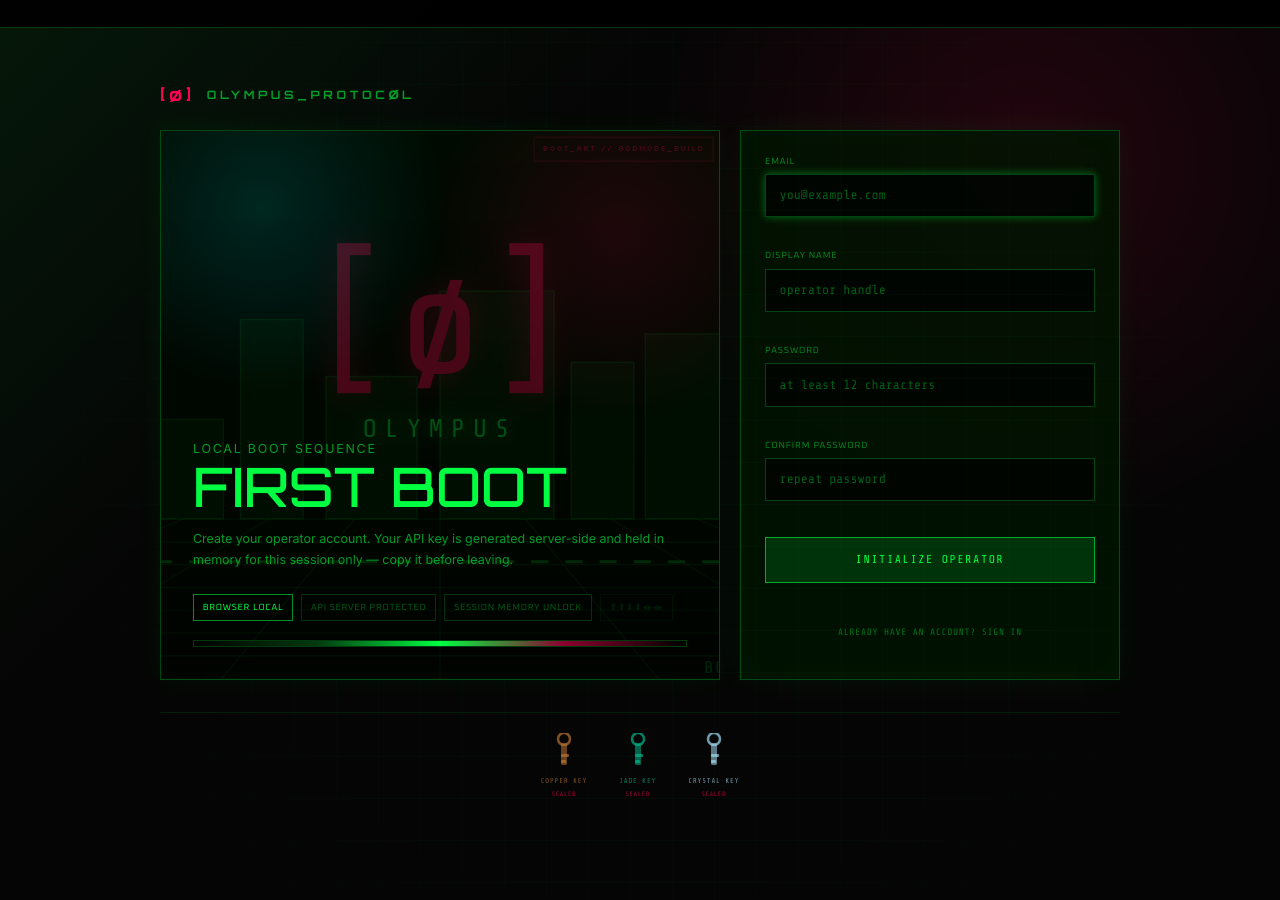
Test: <StartupGate> › setup form rejects mismatched passwords
Expected: the heading "FIRST BOOT" is shown, [193,452,567,520]
Type "user@example.com" into the field with placeholder "you@example.com" at point(930, 196), box [765,174,1095,217]
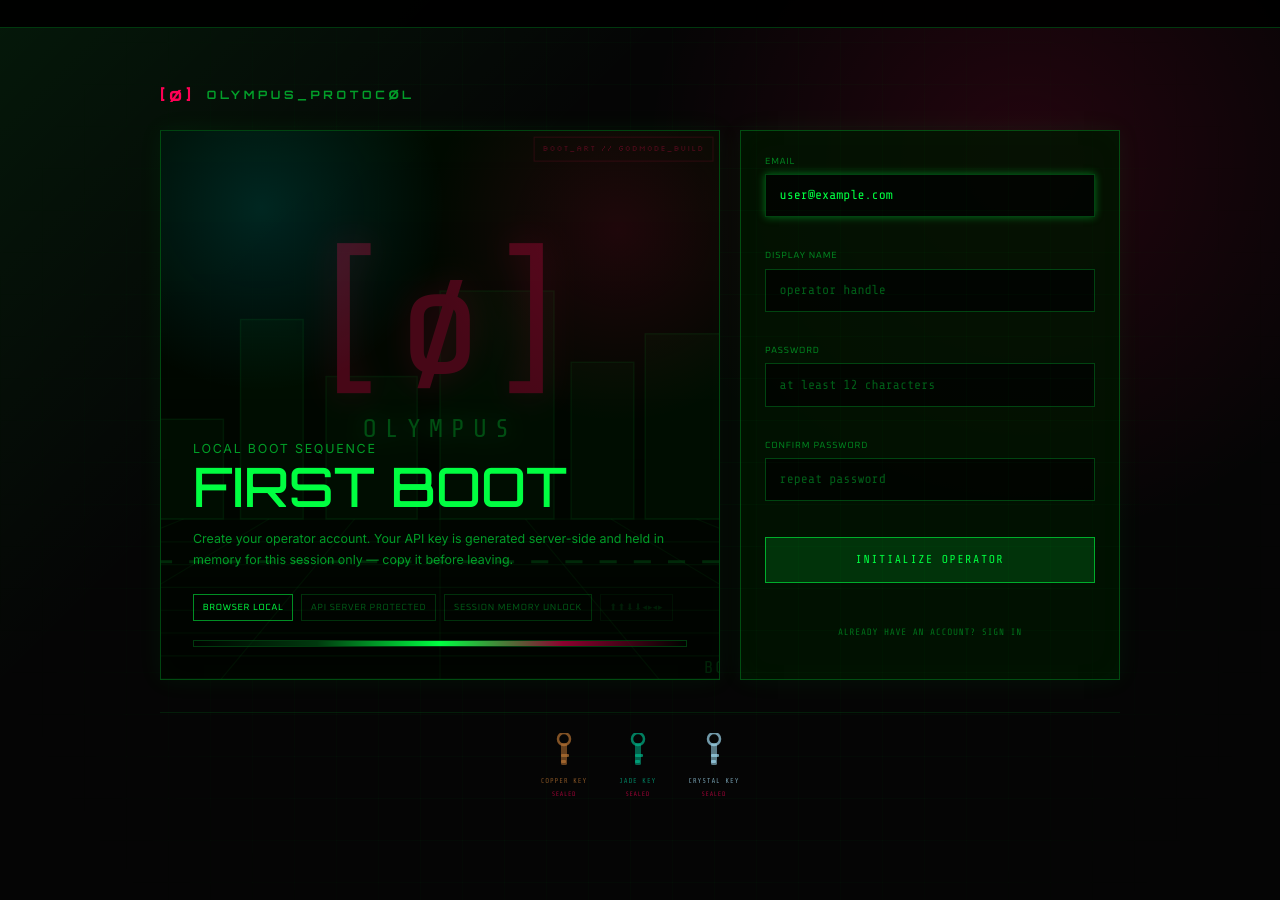
Type "longenoughpw1234" into the password field with placeholder "at least 12 characters" at point(930, 385), box [765,363,1095,406]
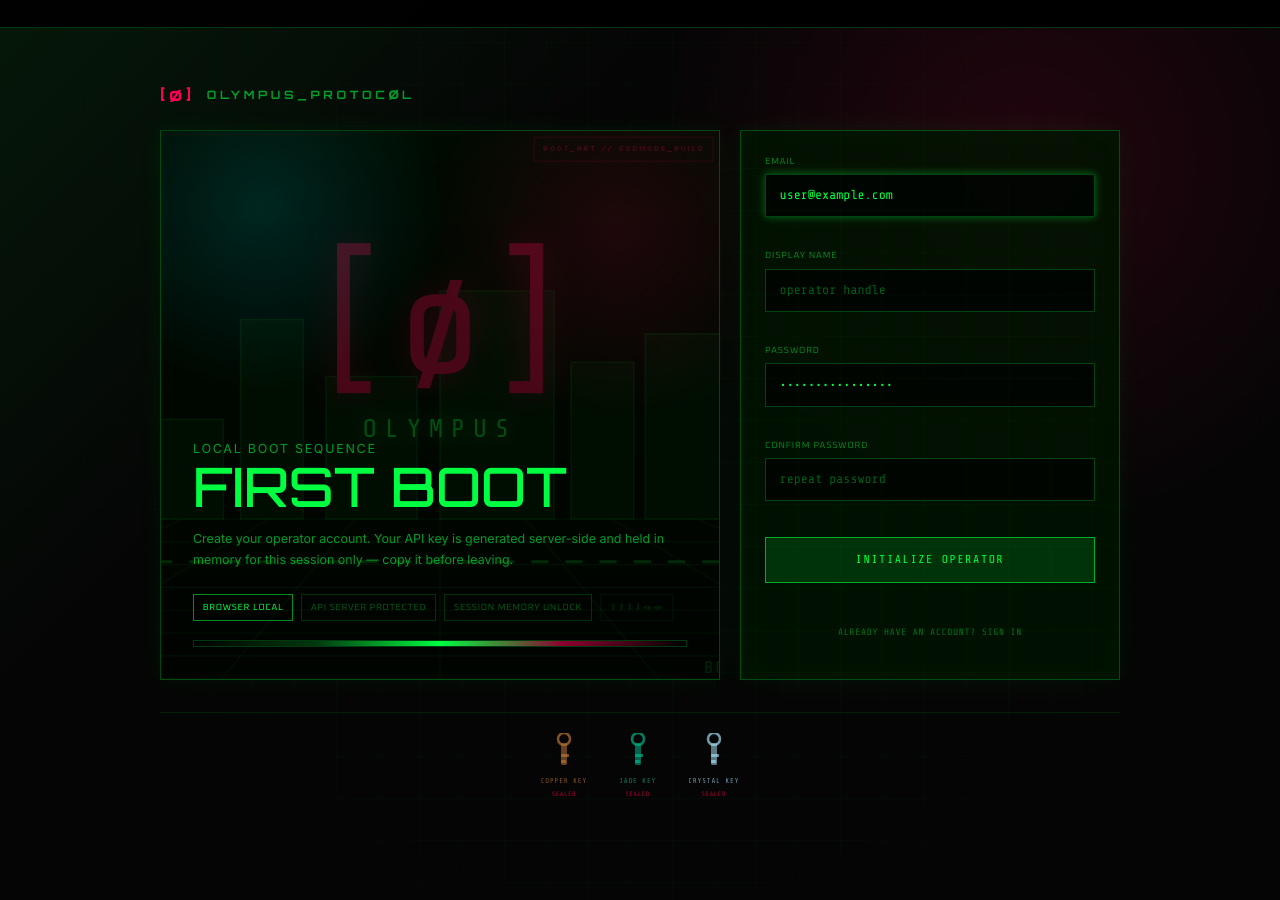
Type "differentpw1234" into the password field with placeholder "repeat password" at point(930, 480), box [765,458,1095,501]
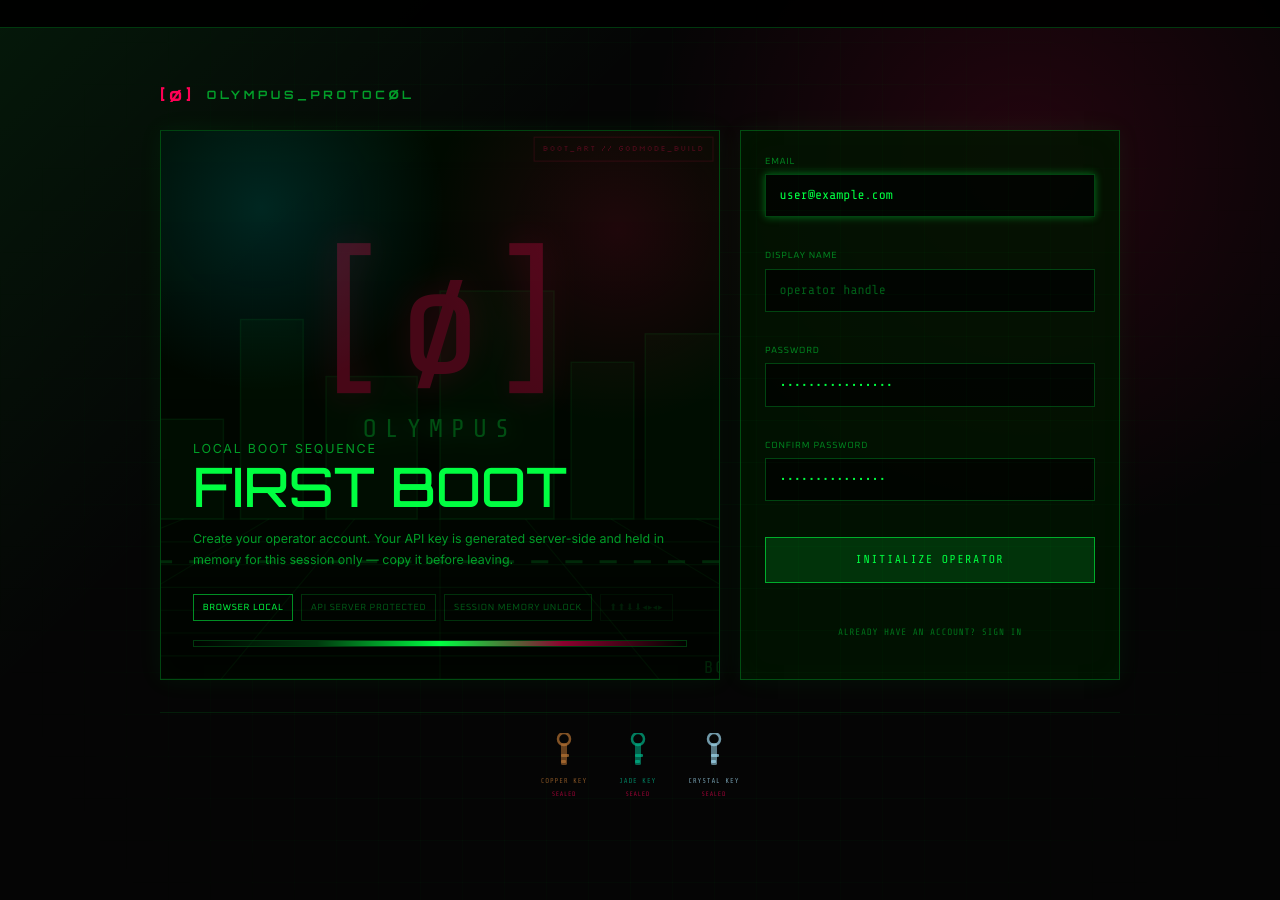
Submit the form with placeholder "you@example.com", box [740,130,1120,680]
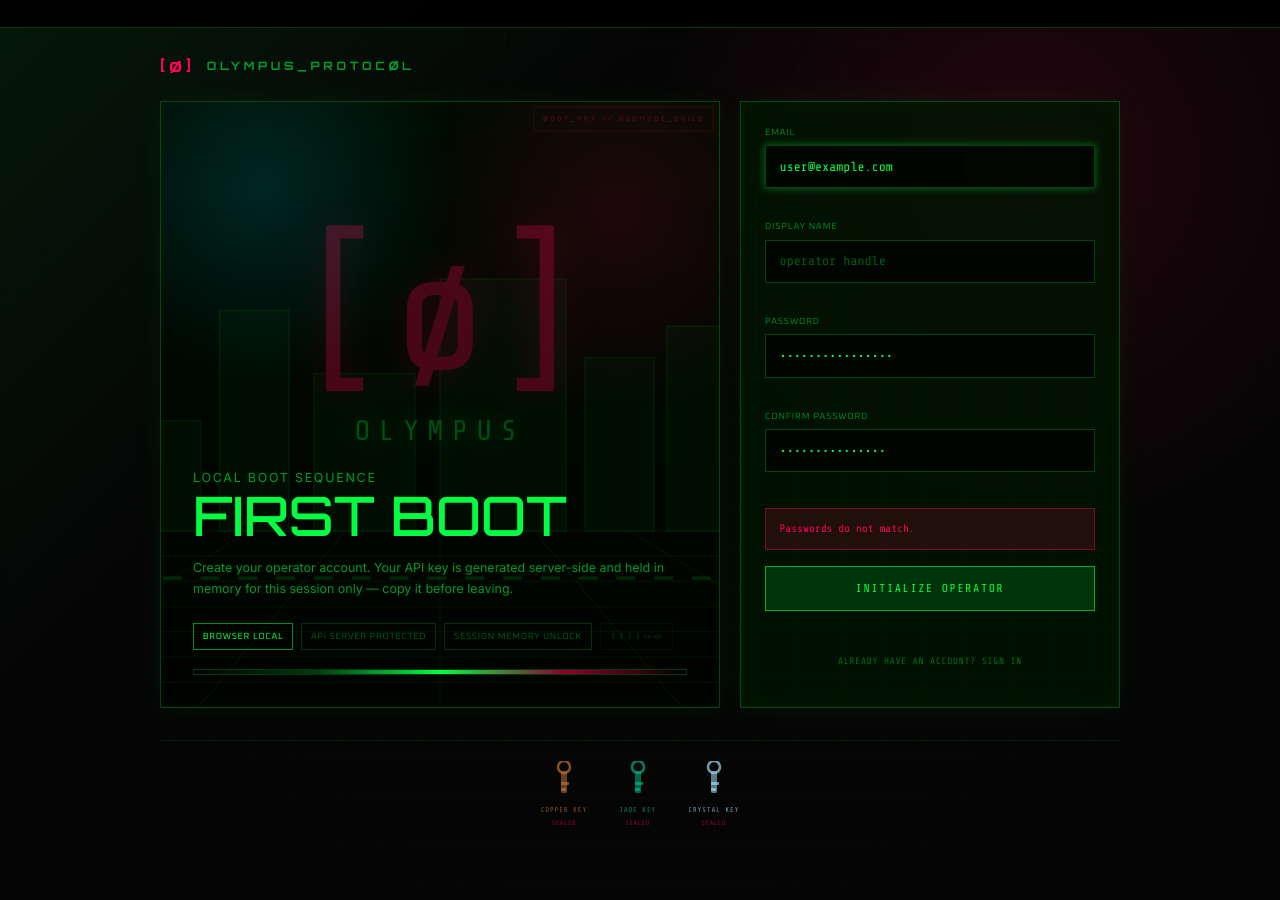
Now the text "Passwords do not match." is shown, box [765,508,1095,550]
